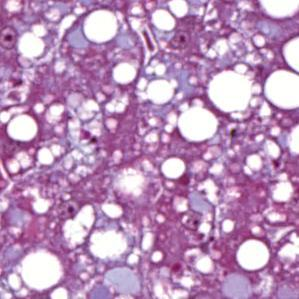steatosis: (177, 104, 219, 146), (80, 8, 121, 44), (235, 242, 272, 275)
